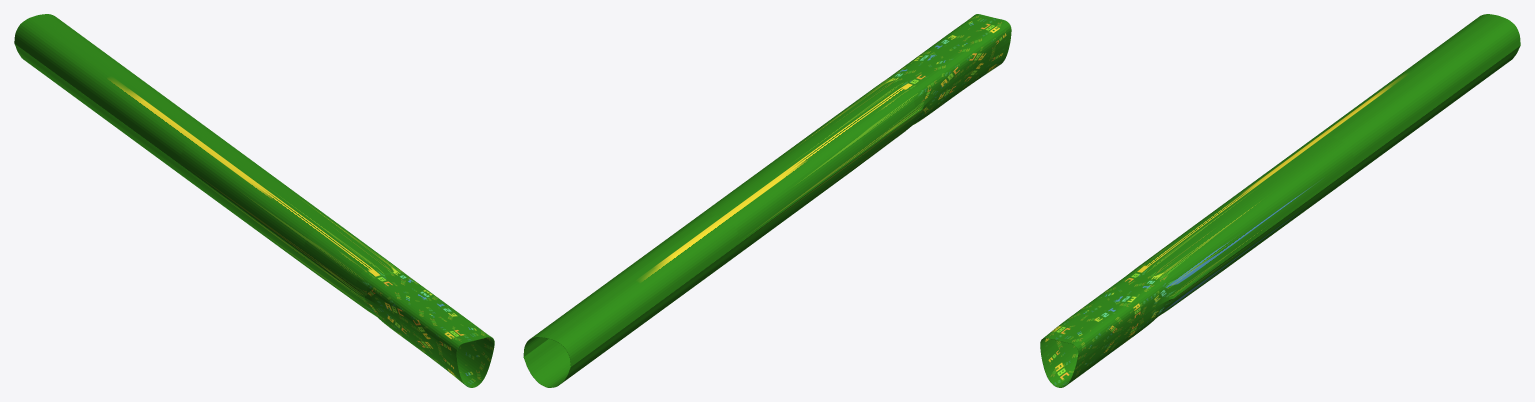
File: sleeveLetters.glb
3 renders of one model, left to right at view 1: azimuth 30°, elevation 25°; view 2: azimuth 150°, elevation 25°; view 3: azimuth 330°, elevation 25°, orthographic.
Parts seen in each view (by area): view 1: Sleeve; view 2: Sleeve; view 3: Sleeve.
Part boxes in pixels (box(x1,y1,x2,y2)): Sleeve: box(14, 14, 494, 387); Sleeve: box(523, 14, 1011, 387); Sleeve: box(1040, 14, 1520, 387).
Bounding box in the file's own units: 2.37 × 2.52 × 38.4.
1 material, 1 textured.
